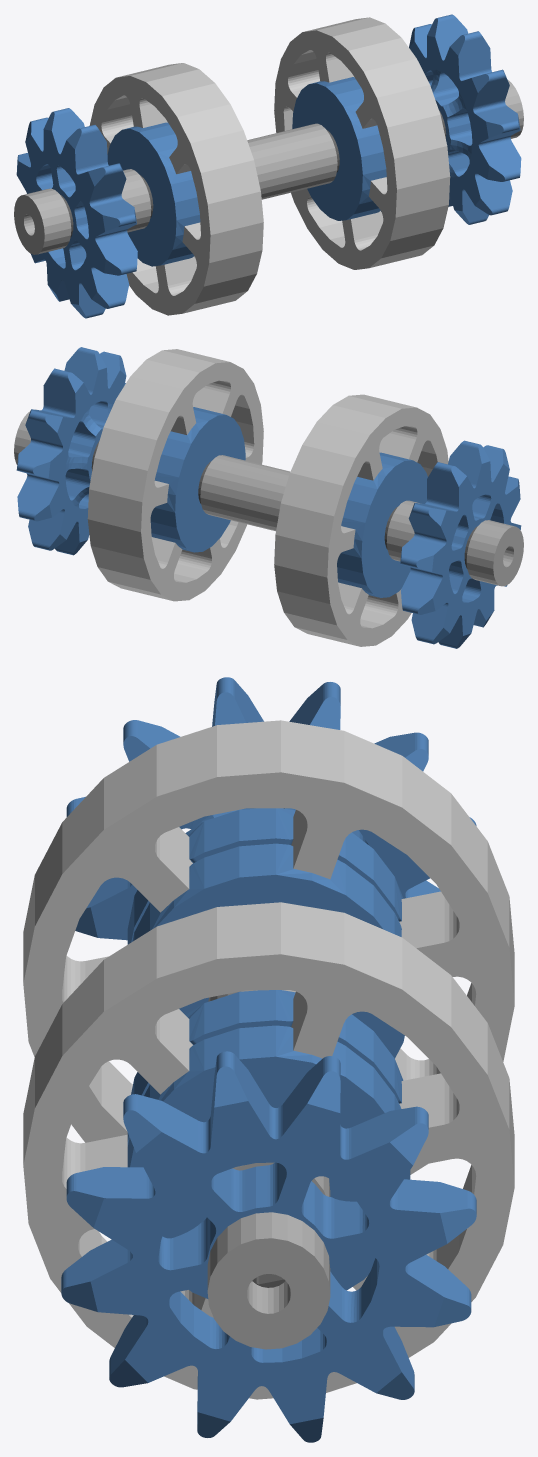
The model's file is roller_04.obj.
3 renders of one model, top to bottom at view 1: azimuth 30°, elevation 25°; view 2: azimuth 150°, elevation 25°; view 3: azimuth 270°, elevation 25°, orthographic. The views are drawn at different scales.
Bounding box in the file's own units: 0.1143 × 0.0507 × 0.0507.
